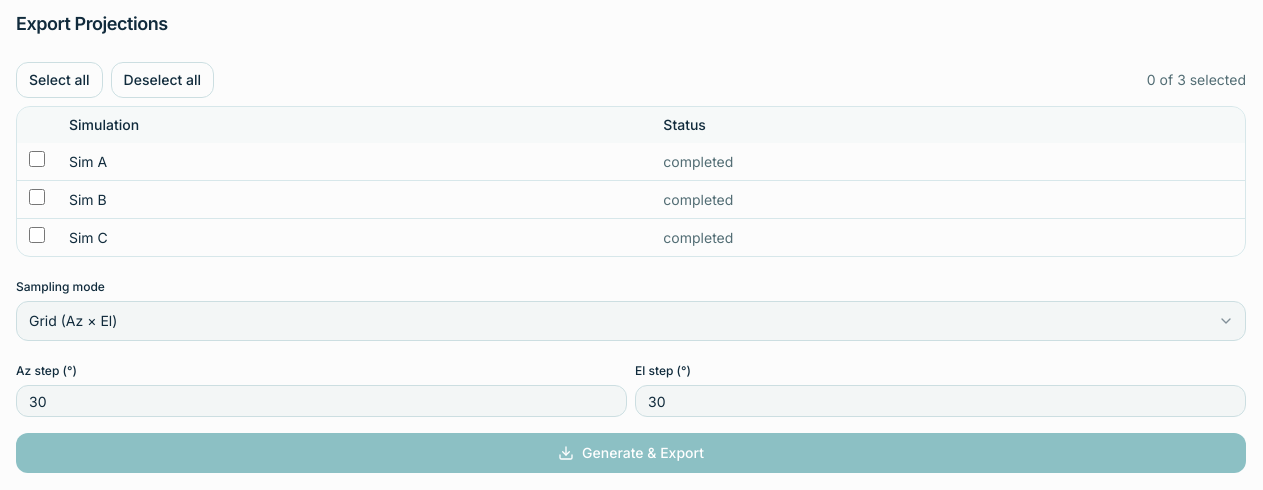
Test: BatchProjectionExportPanel — Select all / Deselect all (T5.3) › clicking "Select all" checks all sim checkboxes
Click the button "Select all".
click(59, 80)  # box [16,62,103,98]
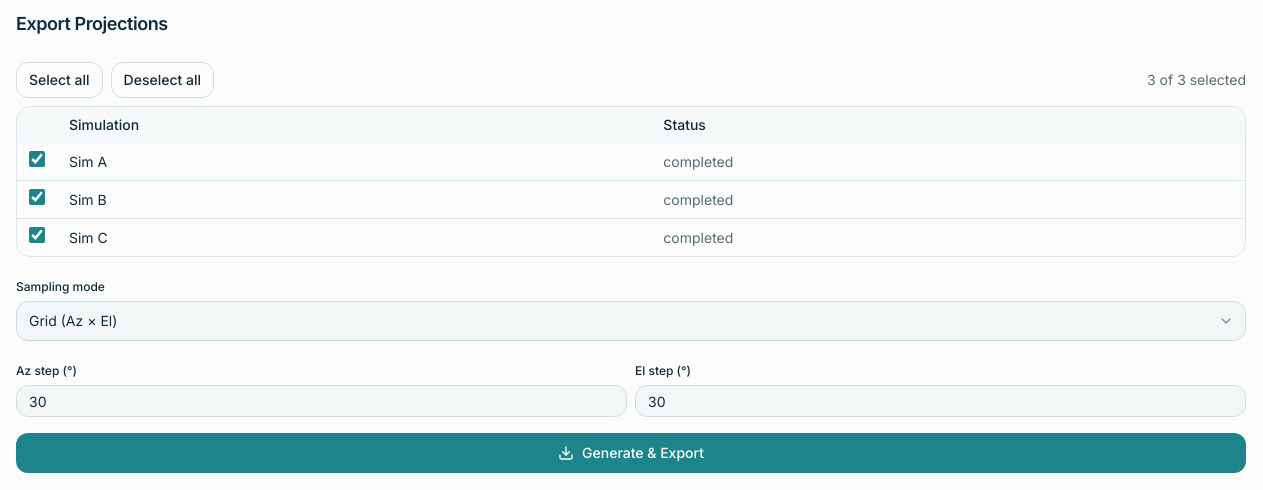
Now the checkbox named "Select Sim A" is checked, box [29,151,45,167]
Now the checkbox named "Select Sim B" is checked, box [29,189,45,205]
